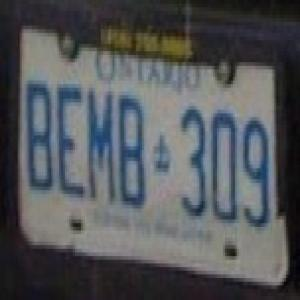Plate: (12, 20, 288, 276)
